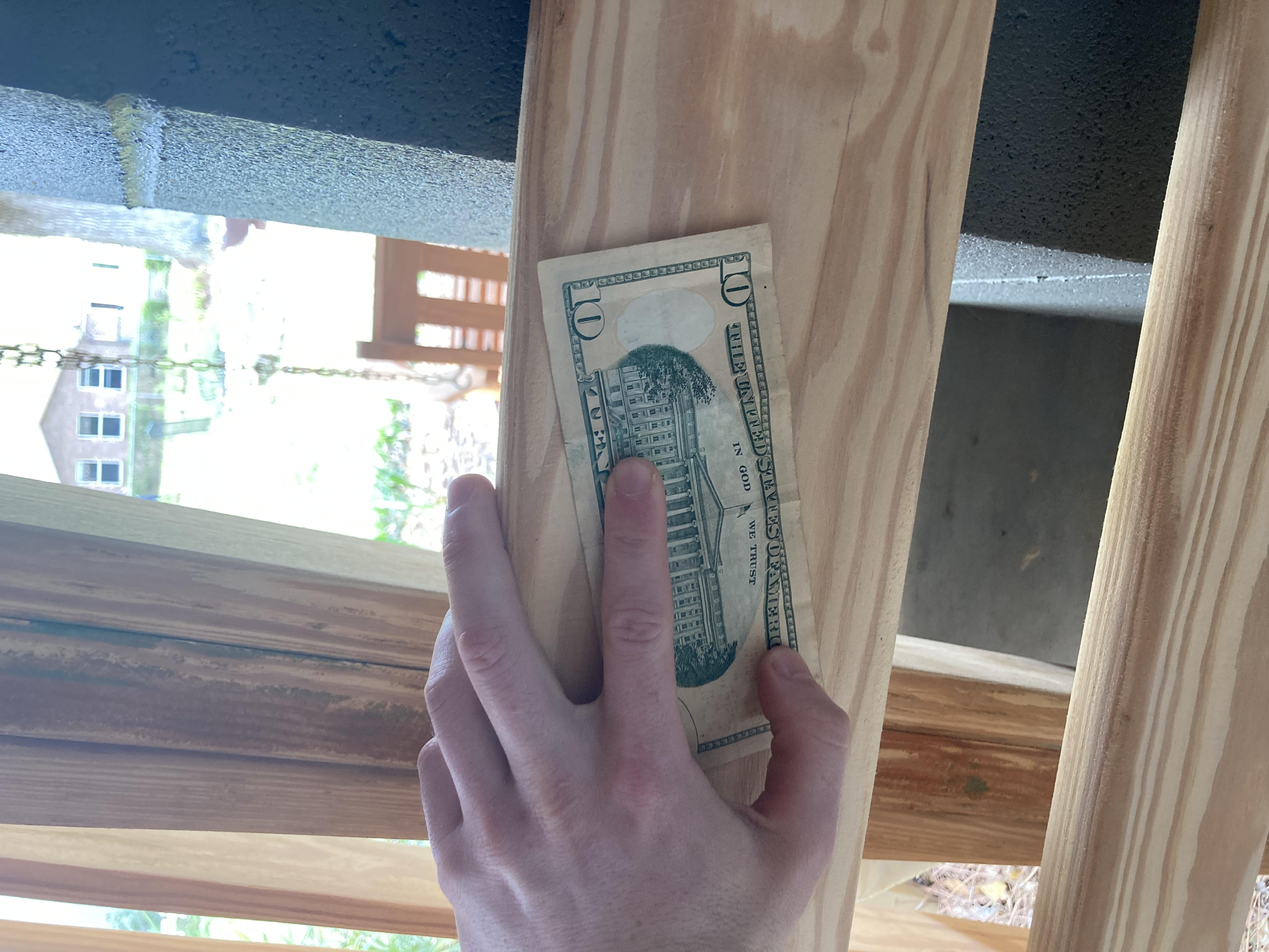ten-back: (220, 403, 977, 622)
